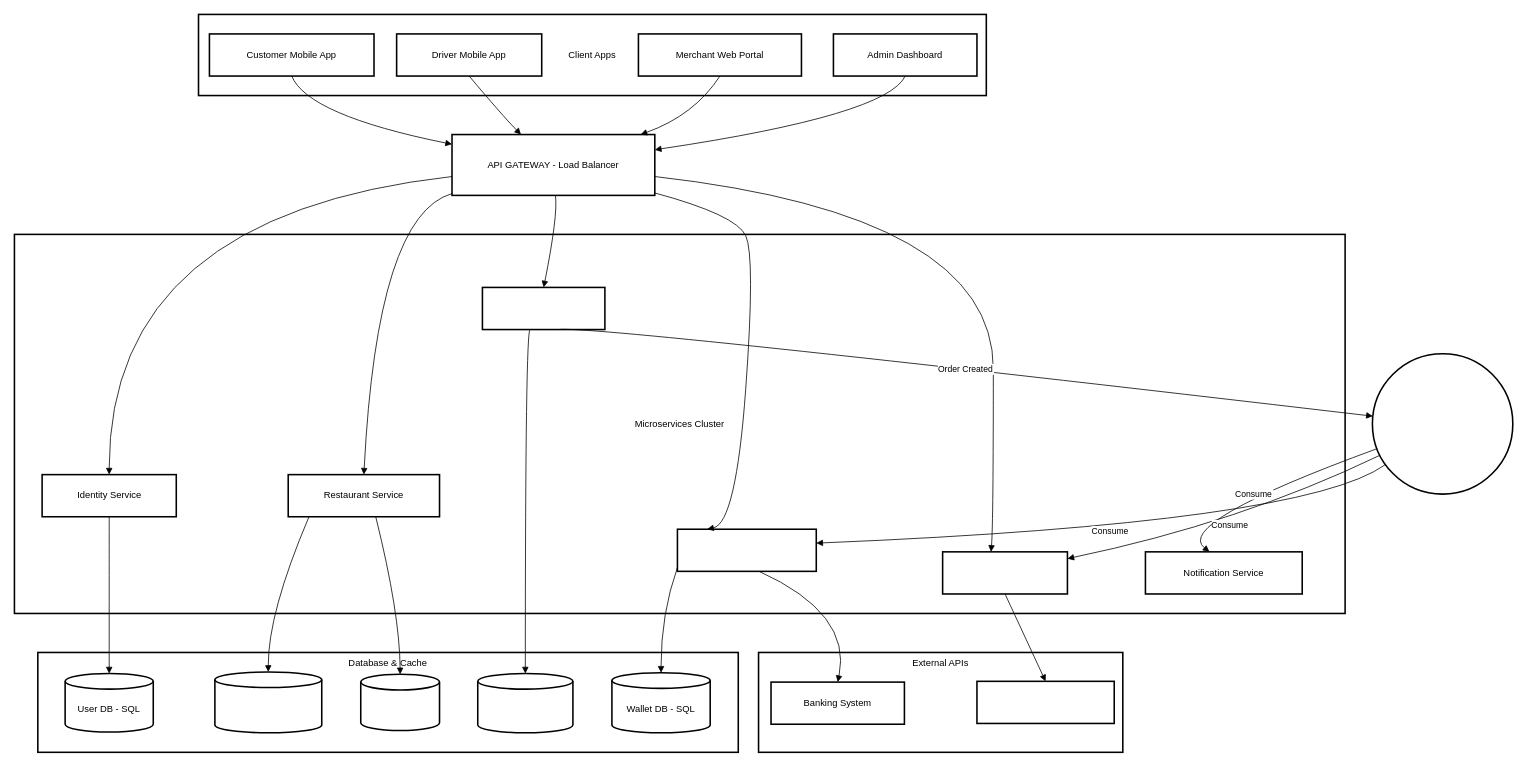
Image size: 1526x766. Some labels were removed from this diagram. Each missing label, with the centre of its shape:
Driver Service: the point at 1004,572
Google Maps API: the point at 1045,702
Menu DB - NoSQL: the point at 268,702
Message Broker - Kafka: the point at 1442,424
Order DB - SQL: the point at 525,702
Order Service: the point at 543,308
Payment Service: the point at 746,550
Redis Cache: the point at 400,702
